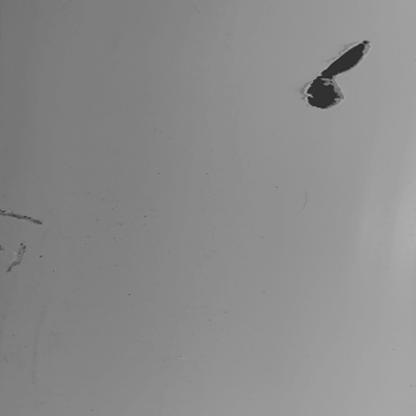fengxi: (1, 207, 45, 229), (9, 241, 31, 273)
kongdong: (300, 41, 371, 110)
